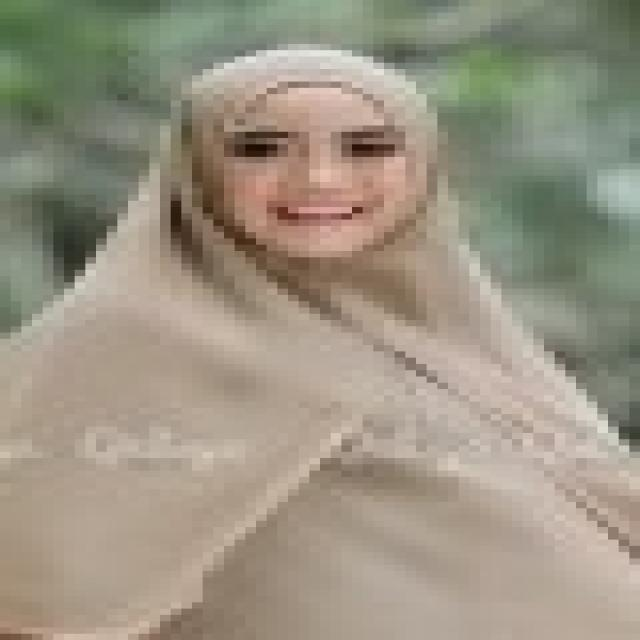head: (175, 42, 467, 265)
